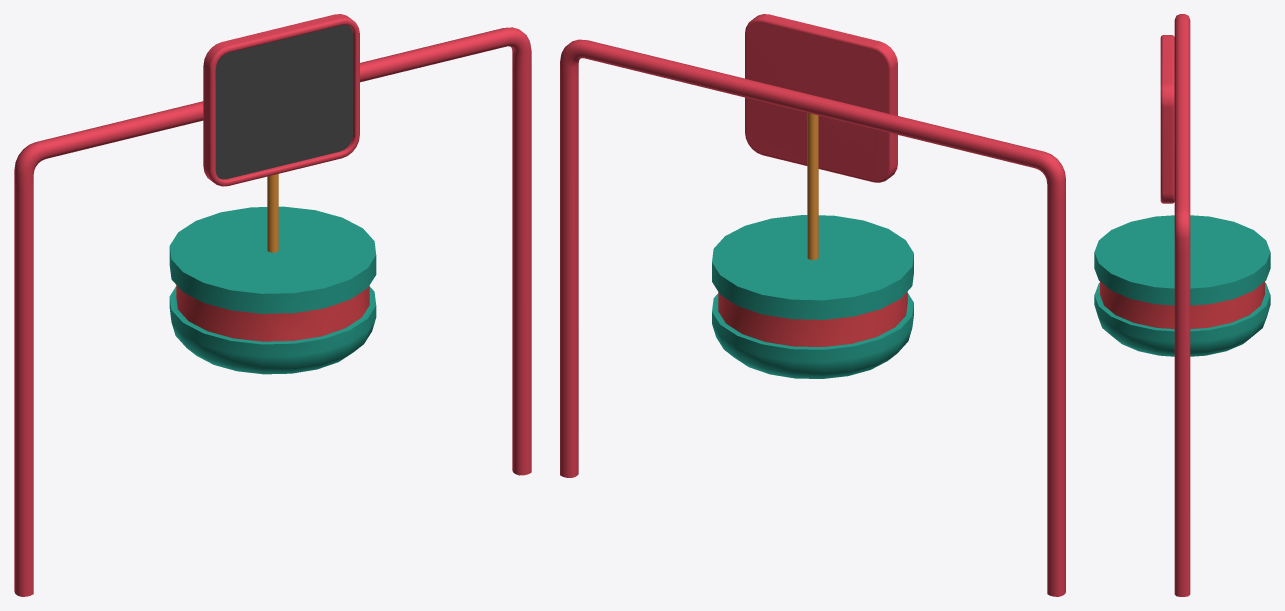
Rendered from OBS_Hammer.fbx.
The picture shows the model from 3 angles, left to right: view 1: azimuth 30°, elevation 25°; view 2: azimuth 150°, elevation 25°; view 3: azimuth 270°, elevation 25°; orthographic projection. The views are drawn at different scales.
Visible parts, largest first — view 1: OBS_Hammer_Iron, OBS_Saw_Screen.002, OBS_Hammer_Frame_Vertical_L, OBS_Hammer_Frame_Vertical_R, OBS_Hammer_Frame_Horizonal, OBS_Saw_Frame.002, OBS_Hammer_Frame_Corner_R, OBS_Hammer_Frame_Corner_L, OBS_Hammer_Rope; view 2: OBS_Hammer_Iron, OBS_Saw_Frame.002, OBS_Hammer_Frame_Horizonal, OBS_Hammer_Frame_Vertical_L, OBS_Hammer_Frame_Vertical_R, OBS_Hammer_Rope, OBS_Hammer_Frame_Corner_R, OBS_Hammer_Frame_Corner_L; view 3: OBS_Hammer_Iron, OBS_Hammer_Frame_Vertical_L, OBS_Hammer_Frame_Horizonal, OBS_Saw_Frame.002, OBS_Hammer_Frame_Corner_L.
Boxes of the visible parts, left/top/right/bottom form: OBS_Hammer_Iron: left=169, top=206, right=376, bottom=374; OBS_Saw_Screen.002: left=215, top=24, right=352, bottom=179; OBS_Hammer_Frame_Vertical_L: left=512, top=66, right=531, bottom=475; OBS_Hammer_Frame_Vertical_R: left=14, top=187, right=33, bottom=596; OBS_Hammer_Frame_Horizonal: left=51, top=31, right=496, bottom=155; OBS_Saw_Frame.002: left=203, top=14, right=359, bottom=186; OBS_Hammer_Frame_Corner_R: left=14, top=138, right=58, bottom=192; OBS_Hammer_Frame_Corner_L: left=489, top=27, right=531, bottom=70; OBS_Hammer_Rope: left=267, top=174, right=278, bottom=252; OBS_Hammer_Iron: left=712, top=215, right=913, bottom=378; OBS_Saw_Frame.002: left=745, top=14, right=897, bottom=182; OBS_Hammer_Frame_Horizonal: left=594, top=43, right=1029, bottom=165; OBS_Hammer_Frame_Vertical_L: left=560, top=78, right=578, bottom=477; OBS_Hammer_Frame_Vertical_R: left=1047, top=197, right=1065, bottom=596; OBS_Hammer_Rope: left=807, top=113, right=818, bottom=259; OBS_Hammer_Frame_Corner_R: left=1023, top=148, right=1065, bottom=201; OBS_Hammer_Frame_Corner_L: left=560, top=39, right=600, bottom=82; OBS_Hammer_Iron: left=1094, top=215, right=1270, bottom=356; OBS_Hammer_Frame_Vertical_L: left=1174, top=252, right=1190, bottom=596; OBS_Hammer_Frame_Horizonal: left=1174, top=22, right=1190, bottom=207; OBS_Saw_Frame.002: left=1160, top=35, right=1174, bottom=203; OBS_Hammer_Frame_Corner_L: left=1174, top=203, right=1190, bottom=253.
Size of the model in its own units: 911 by 863 by 319.
